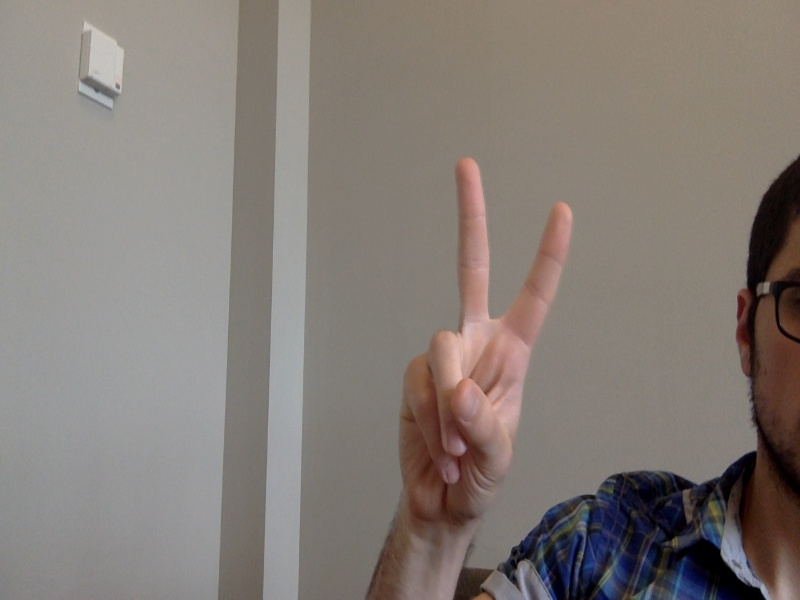2-hand: (396, 158, 574, 524)
